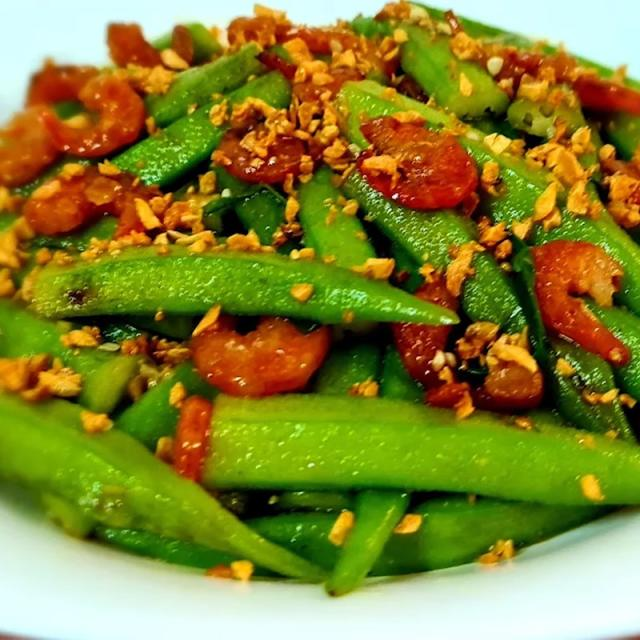dau bap: (0, 3, 639, 594)
